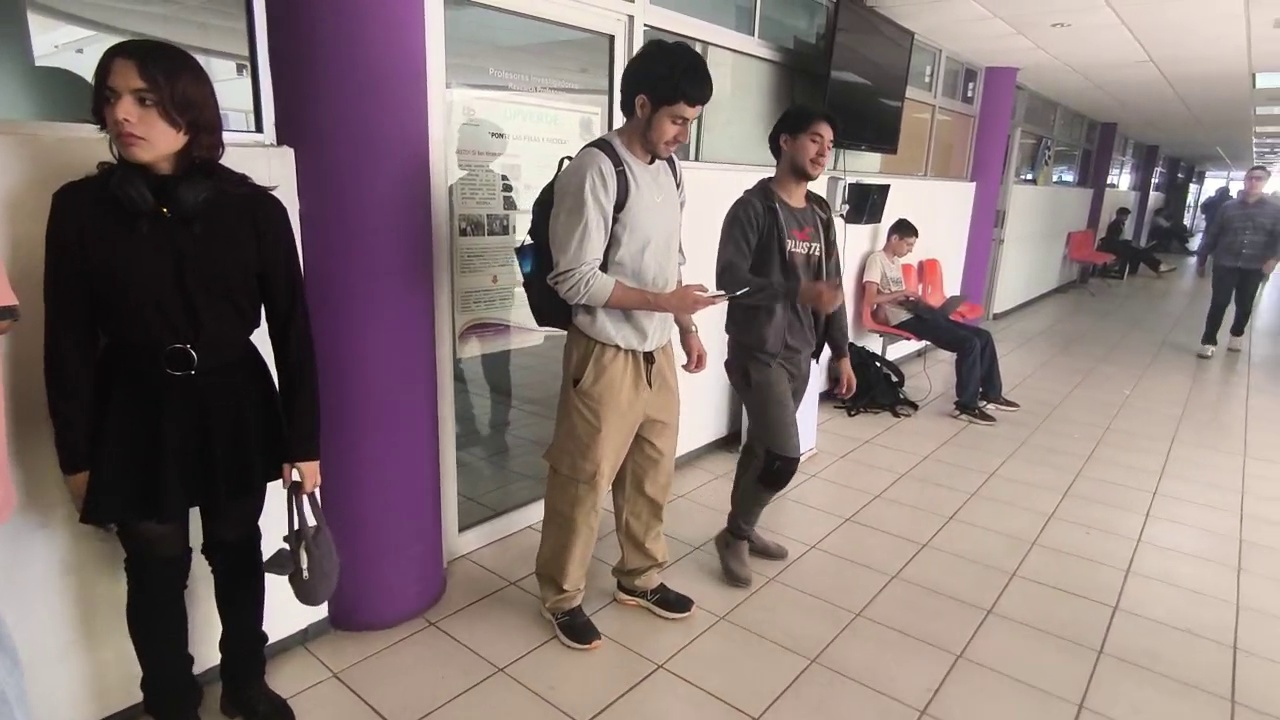mixto2: (697, 282, 753, 302)
